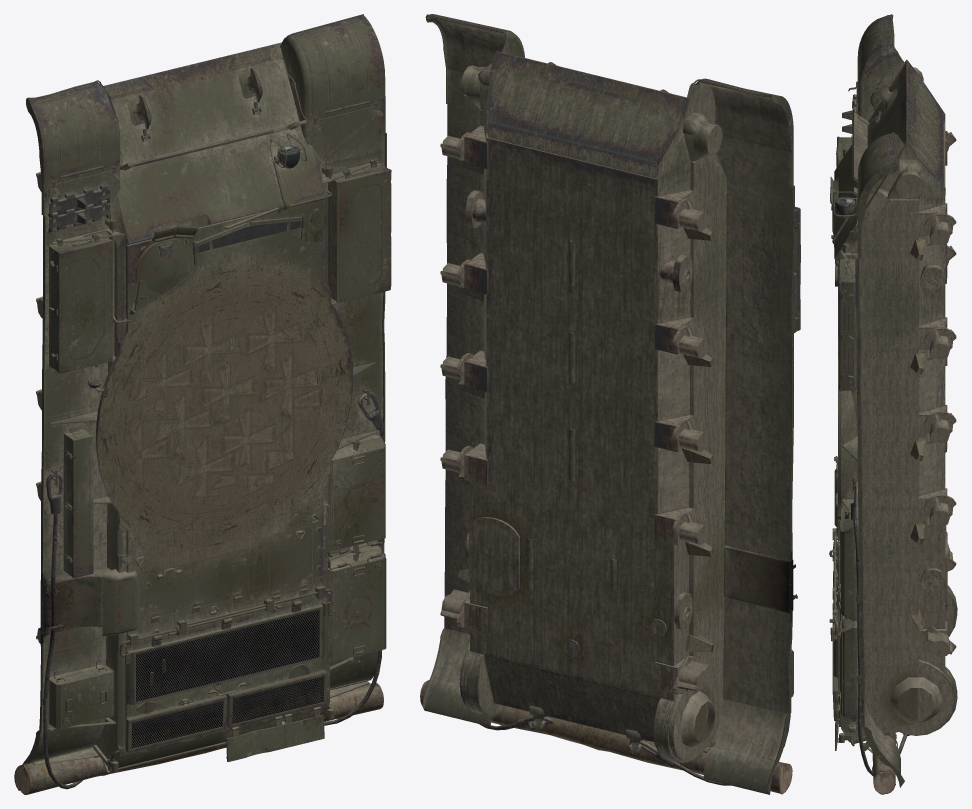
The model's file is Hull.glb.
The picture shows the model from 3 angles, left to right: view 1: azimuth 30°, elevation 25°; view 2: azimuth 150°, elevation 25°; view 3: azimuth 270°, elevation 25°; orthographic projection. The views are drawn at different scales.
Parts seen in each view (by area): view 1: set_0_group_0; view 2: set_0_group_0; view 3: set_0_group_0.
Boxes of the visible parts, x1=… form: set_0_group_0: x1=14, y1=14, x2=391, y2=794; set_0_group_0: x1=420, y1=14, x2=800, y2=794; set_0_group_0: x1=829, y1=14, x2=957, y2=794.
Bounding box in the file's own units: 3.4 × 6.35 × 1.17.
Materials: 1 (1 with a texture image).
